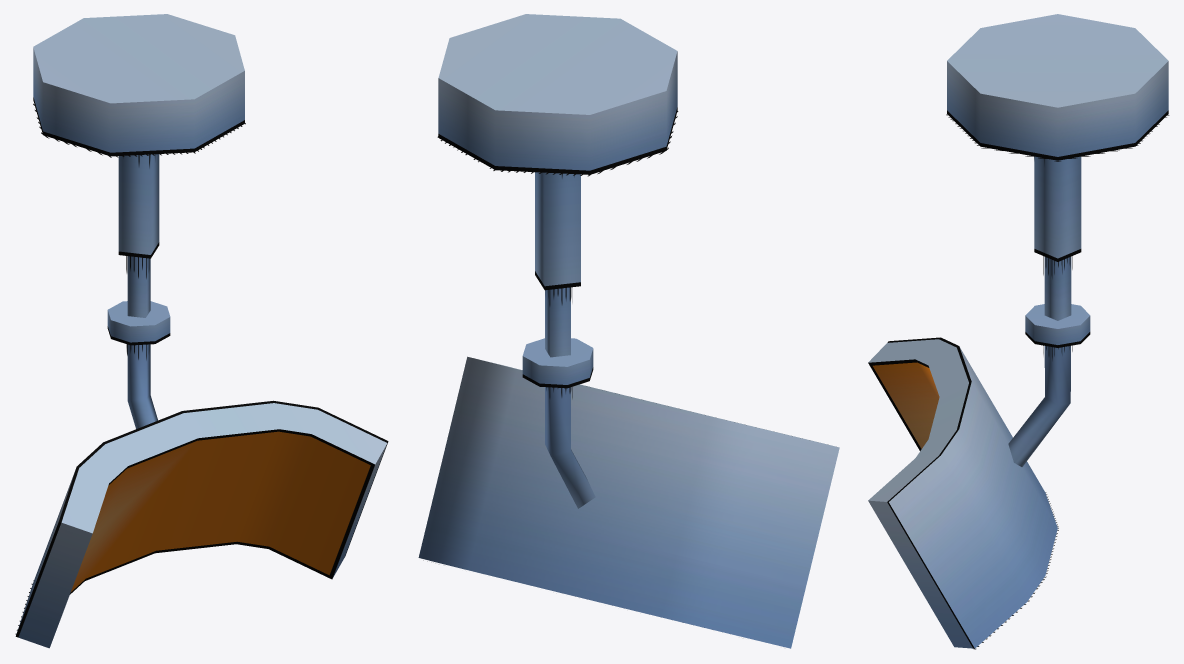
Rendered from pm-sci-fi-antenna.glb.
The picture shows the model from 3 angles, left to right: view 1: azimuth 30°, elevation 25°; view 2: azimuth 150°, elevation 25°; view 3: azimuth 270°, elevation 25°; orthographic projection. The views are drawn at different scales.
Parts seen in each view (by area): view 1: SciFi_Antenna; view 2: SciFi_Antenna; view 3: SciFi_Antenna.
Boxes of the visible parts, x1,y1,x2,y2 form: SciFi_Antenna: [15, 14, 388, 648]; SciFi_Antenna: [418, 14, 839, 648]; SciFi_Antenna: [868, 14, 1169, 649].
Size of the model in its own units: 0.9418 by 1.41 by 0.742.
Materials: 2 (2 with a texture image).
